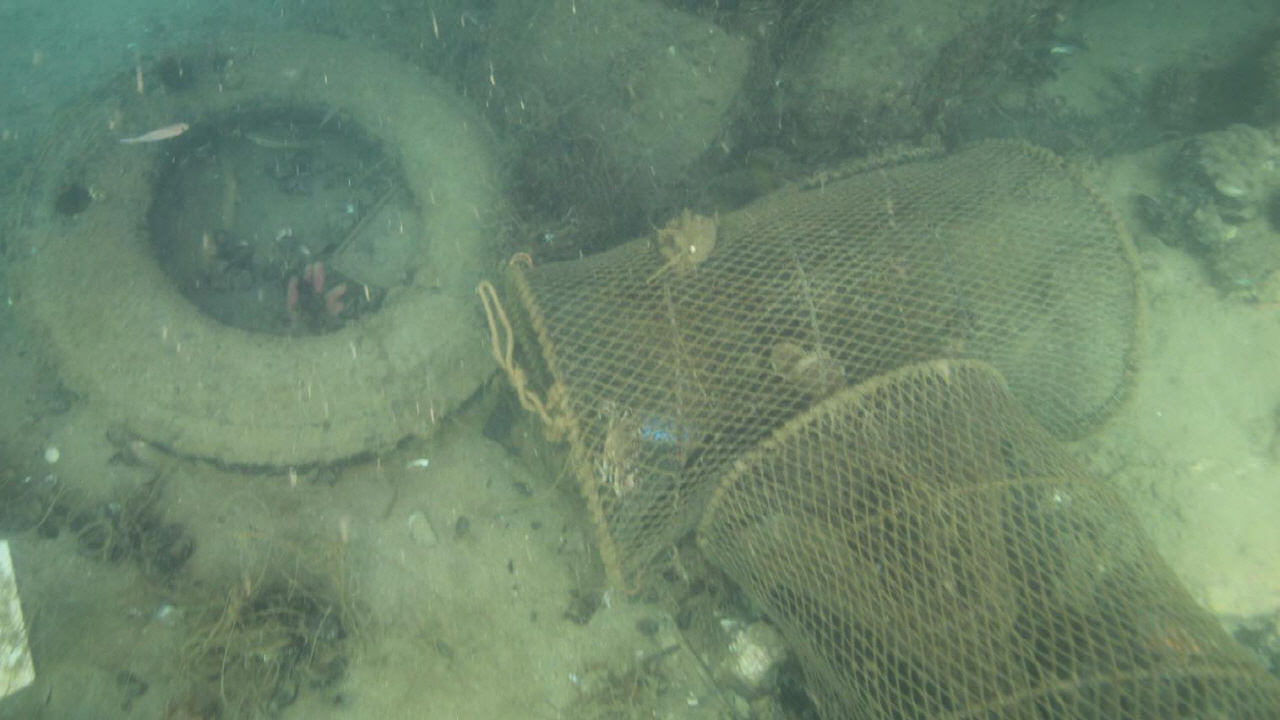bundle of ropes: (475, 278, 555, 427)
spring fish trap: (503, 137, 1148, 599), (692, 368, 1280, 720)
tire: (23, 26, 534, 475)
